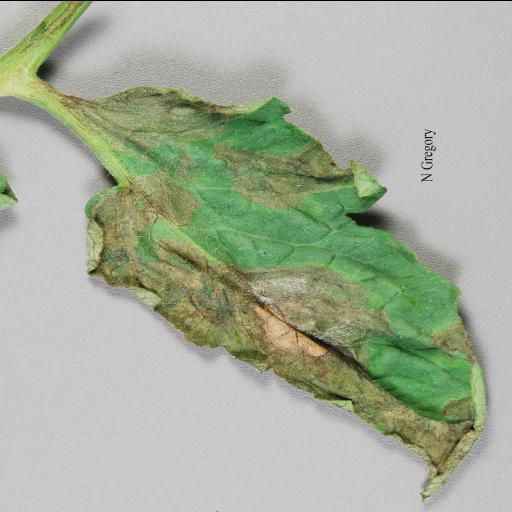Late Blight: (38, 92, 486, 496)
